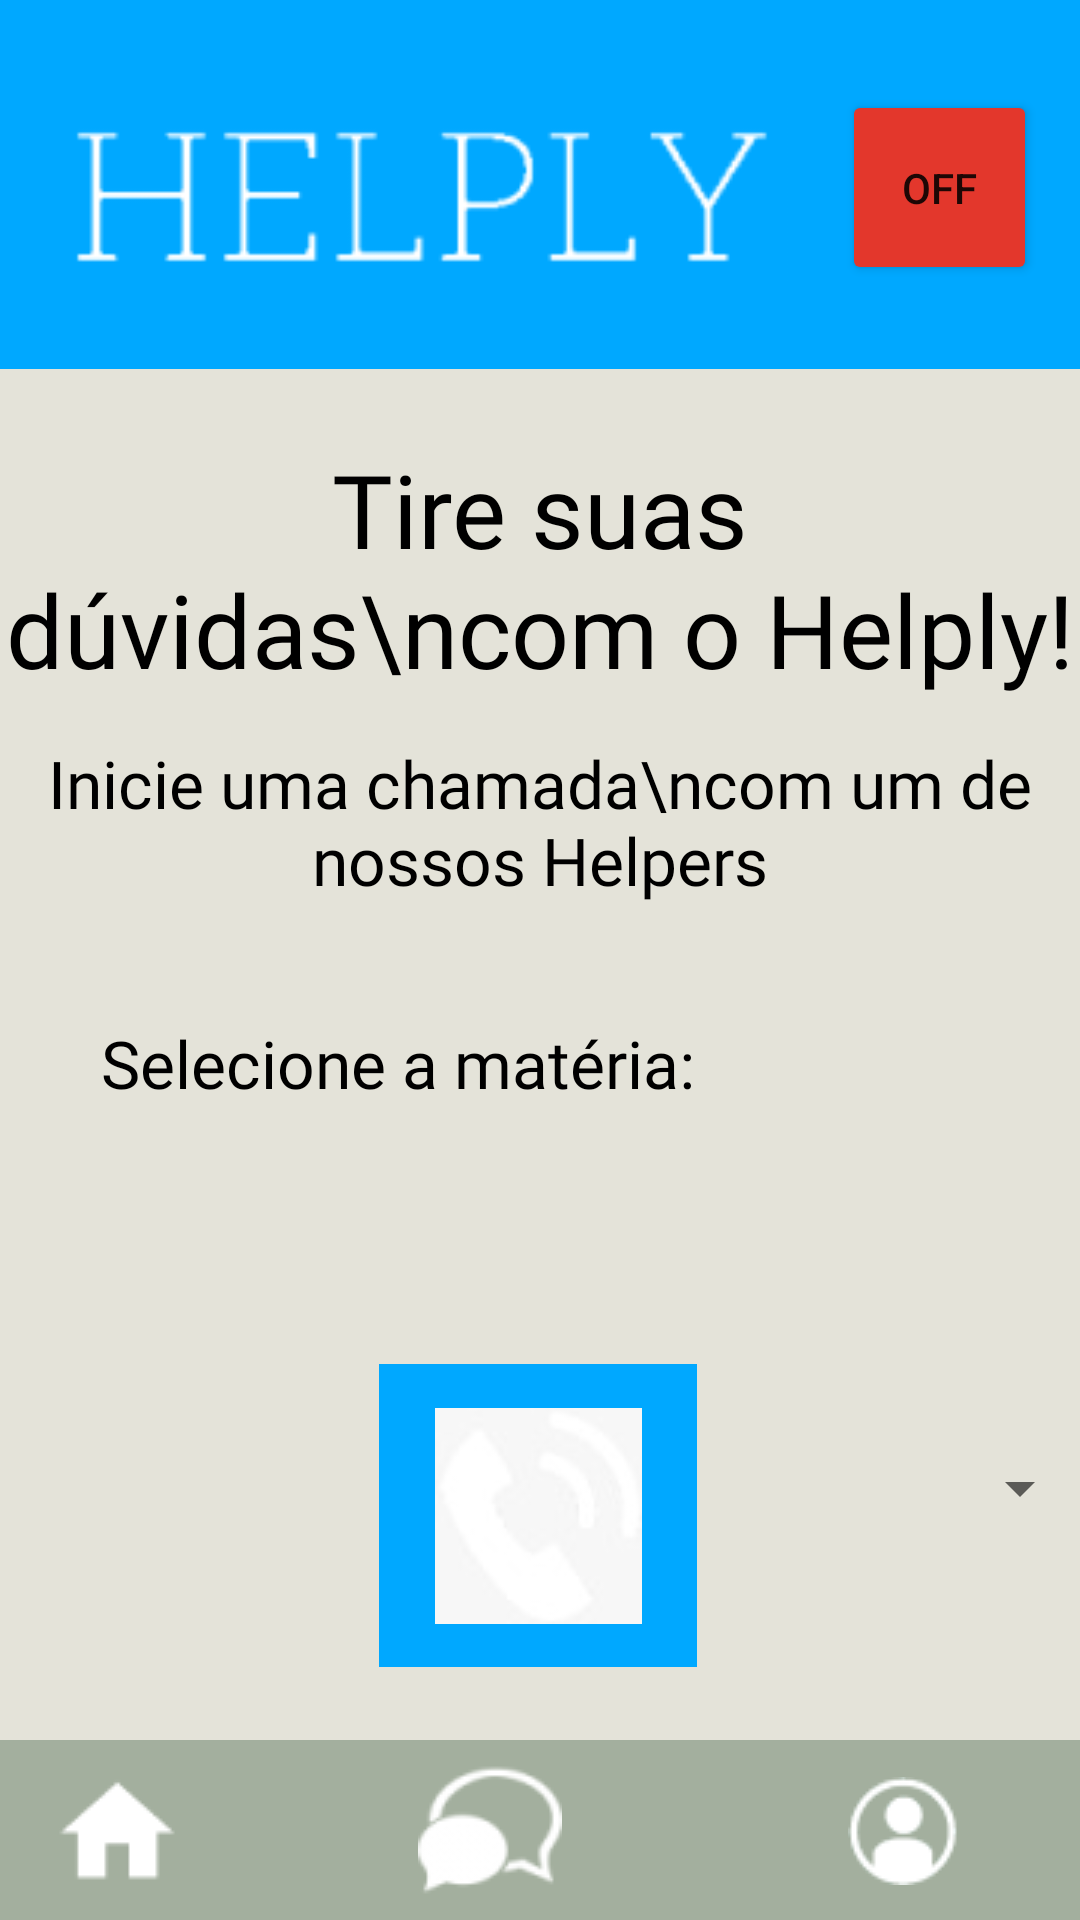

Icons on this 1080px×1920px Android screen, each with the point to tap as (x,y):
call: (538,1515)
chat: (490,1829)
home: (117,1830)
perfil: (902,1831)
